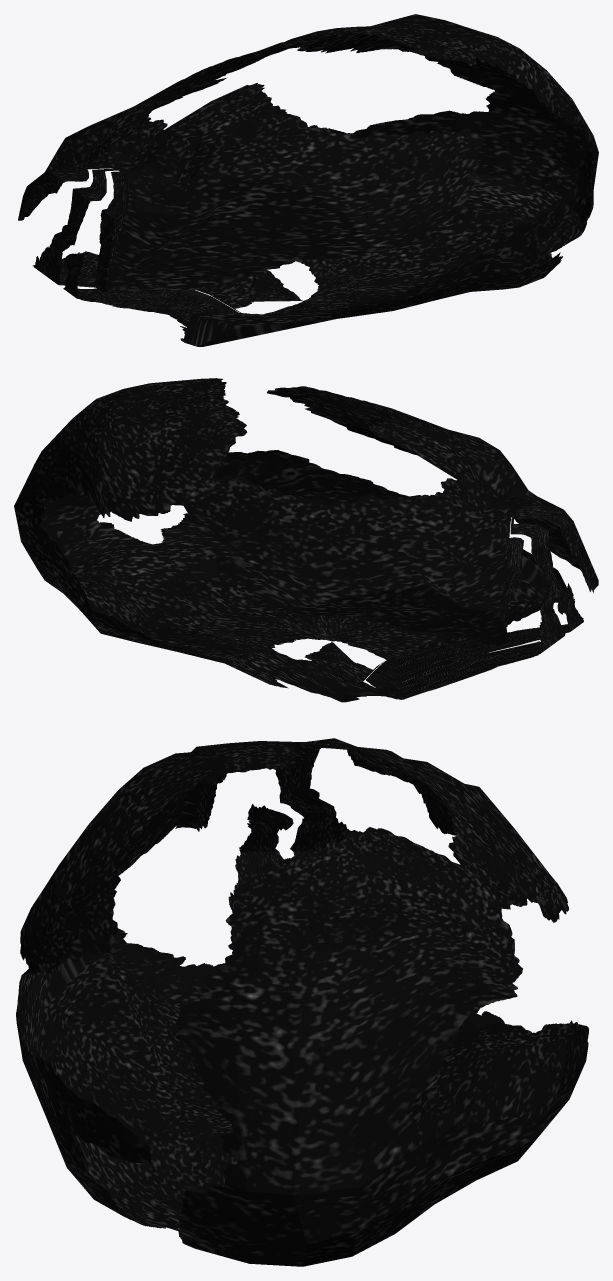
Rendered from Meteor.fbx.
3 views of the same model, one above another, from view 1: azimuth 30°, elevation 25°; view 2: azimuth 150°, elevation 25°; view 3: azimuth 270°, elevation 25° (orthographic). The views are drawn at different scales.
Parts seen in each view (by area): view 1: Meteor; view 2: Meteor; view 3: Meteor.
Boxes of the visible parts, box(x1,y1,x2,y2) form: Meteor: box(18, 14, 598, 346); Meteor: box(14, 378, 598, 702); Meteor: box(16, 738, 588, 1266).
Size of the model in its own units: 219 by 94.64 by 146.
1 material, 1 textured.
